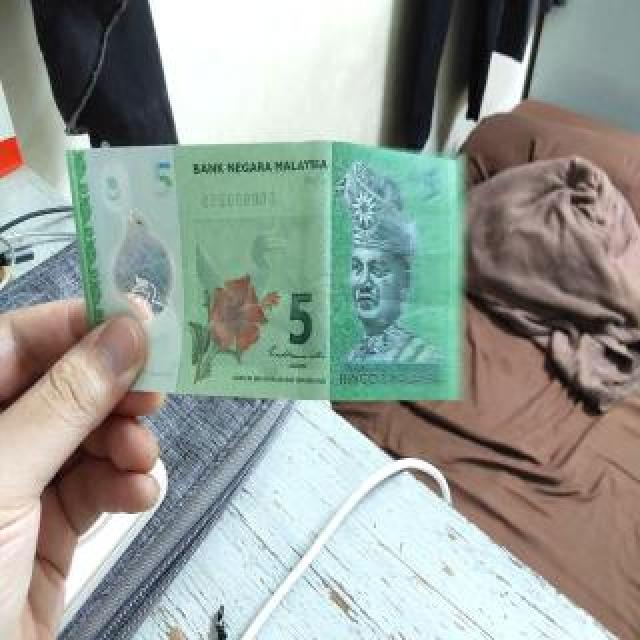5 Ringgit: (72, 142, 481, 403)
